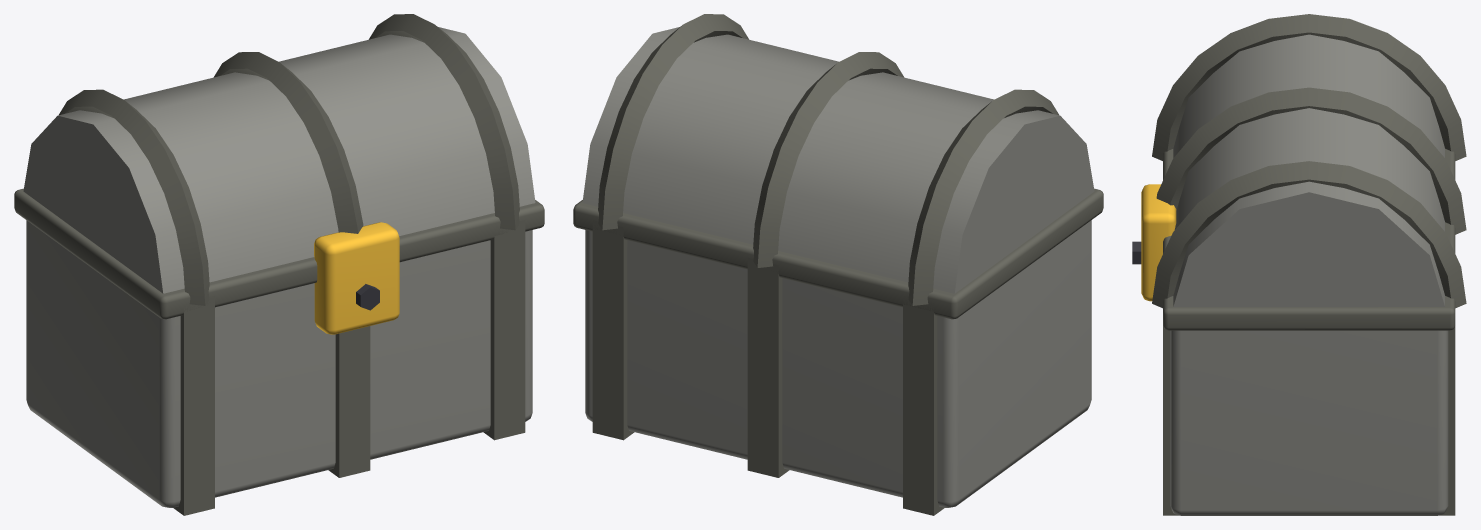
File: StoneChest.fbx
3 renders of one model, left to right at view 1: azimuth 30°, elevation 25°; view 2: azimuth 150°, elevation 25°; view 3: azimuth 270°, elevation 25°, orthographic. The views are drawn at different scales.
Visible parts, largest first — view 1: StoneChest; view 2: StoneChest; view 3: StoneChest.
Boxes of the visible parts, x1=… form: StoneChest: x1=14, y1=14, x2=544, y2=515; StoneChest: x1=573, y1=14, x2=1103, y2=515; StoneChest: x1=1132, y1=14, x2=1466, y2=515.
Bounding box in the file's own units: 3.1 × 2.75 × 2.4.
1 material, 1 textured.
